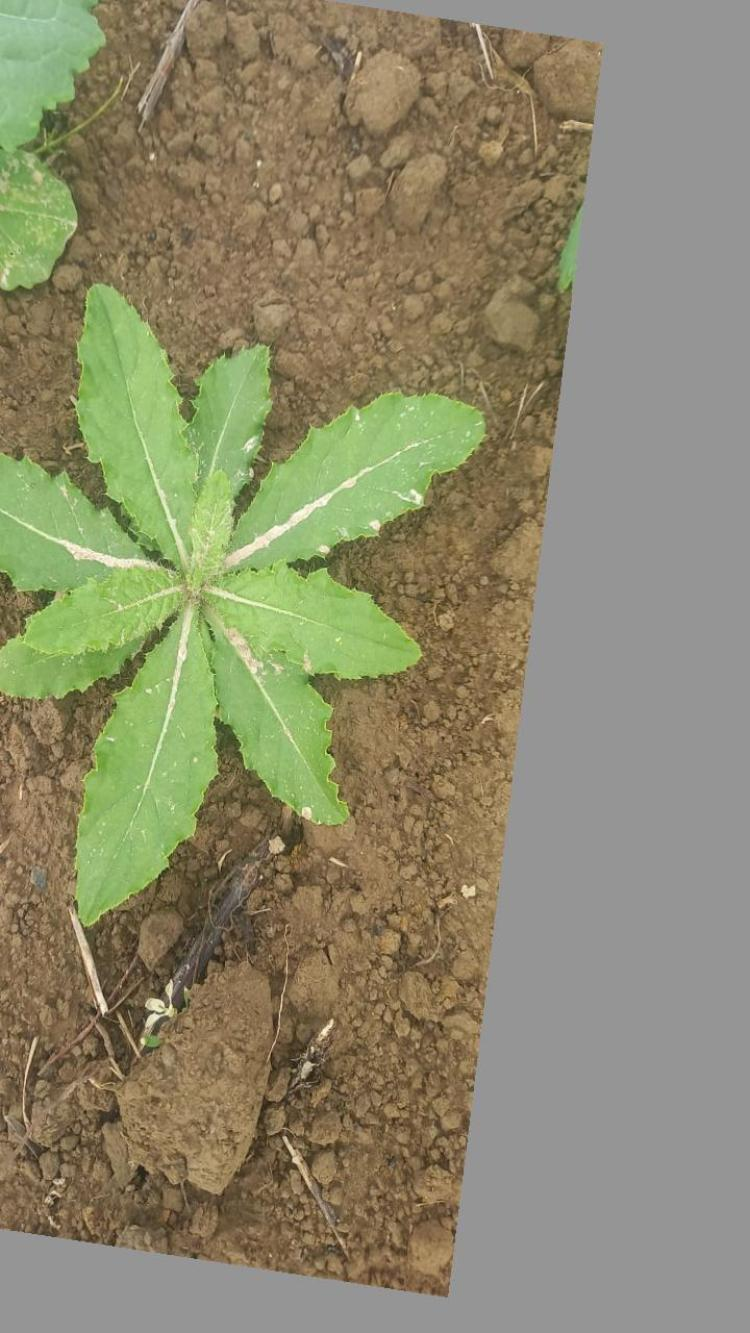osot: (2, 285, 494, 933)
